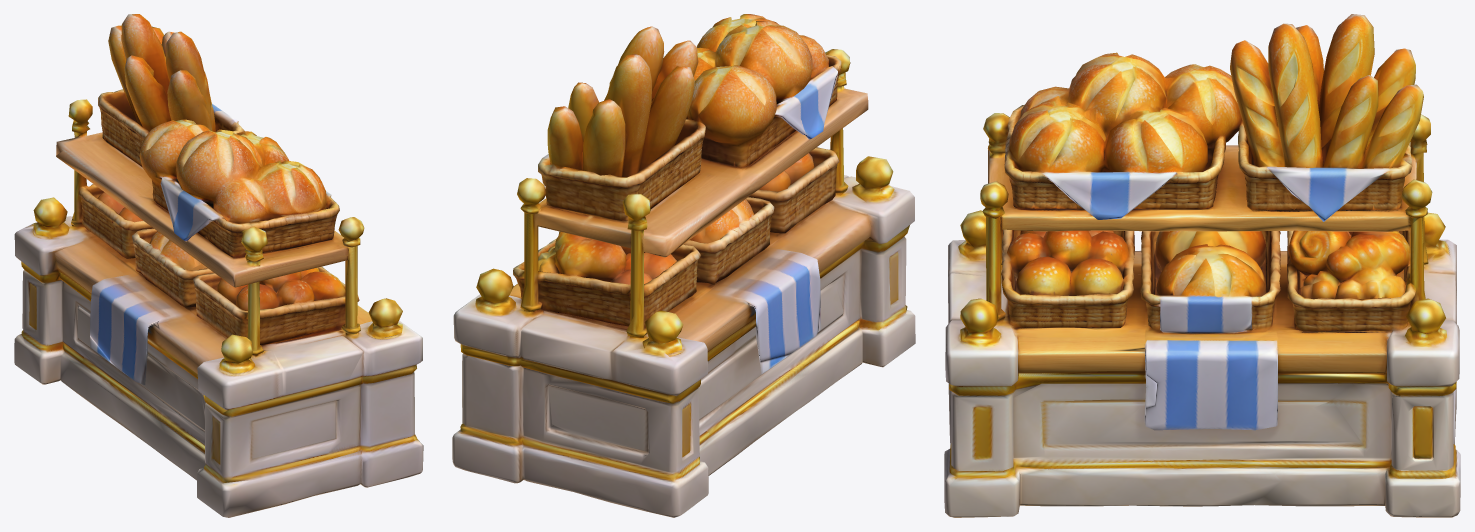
File: HaloReasonHQ_BreadStand_HD_src.glb
3 views of the same model, side by side, from view 1: azimuth 30°, elevation 25°; view 2: azimuth 150°, elevation 25°; view 3: azimuth 270°, elevation 25° (orthographic). The views are drawn at different scales.
Parts seen in each view (by area): view 1: tripo_node_d1996a29-3b07-454c-bf7f-35ae48317129; view 2: tripo_node_d1996a29-3b07-454c-bf7f-35ae48317129; view 3: tripo_node_d1996a29-3b07-454c-bf7f-35ae48317129.
Part boxes in pixels (x1,y1,x2,y2): tripo_node_d1996a29-3b07-454c-bf7f-35ae48317129: (14, 14, 423, 517); tripo_node_d1996a29-3b07-454c-bf7f-35ae48317129: (452, 14, 915, 517); tripo_node_d1996a29-3b07-454c-bf7f-35ae48317129: (944, 14, 1460, 517).
Size of the model in its own units: 0.525 by 0.9108 by 0.9804.
Materials: 1 (1 with a texture image).
